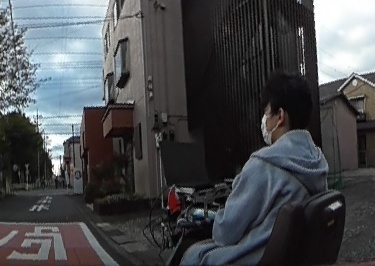person: (181, 76, 330, 266)
